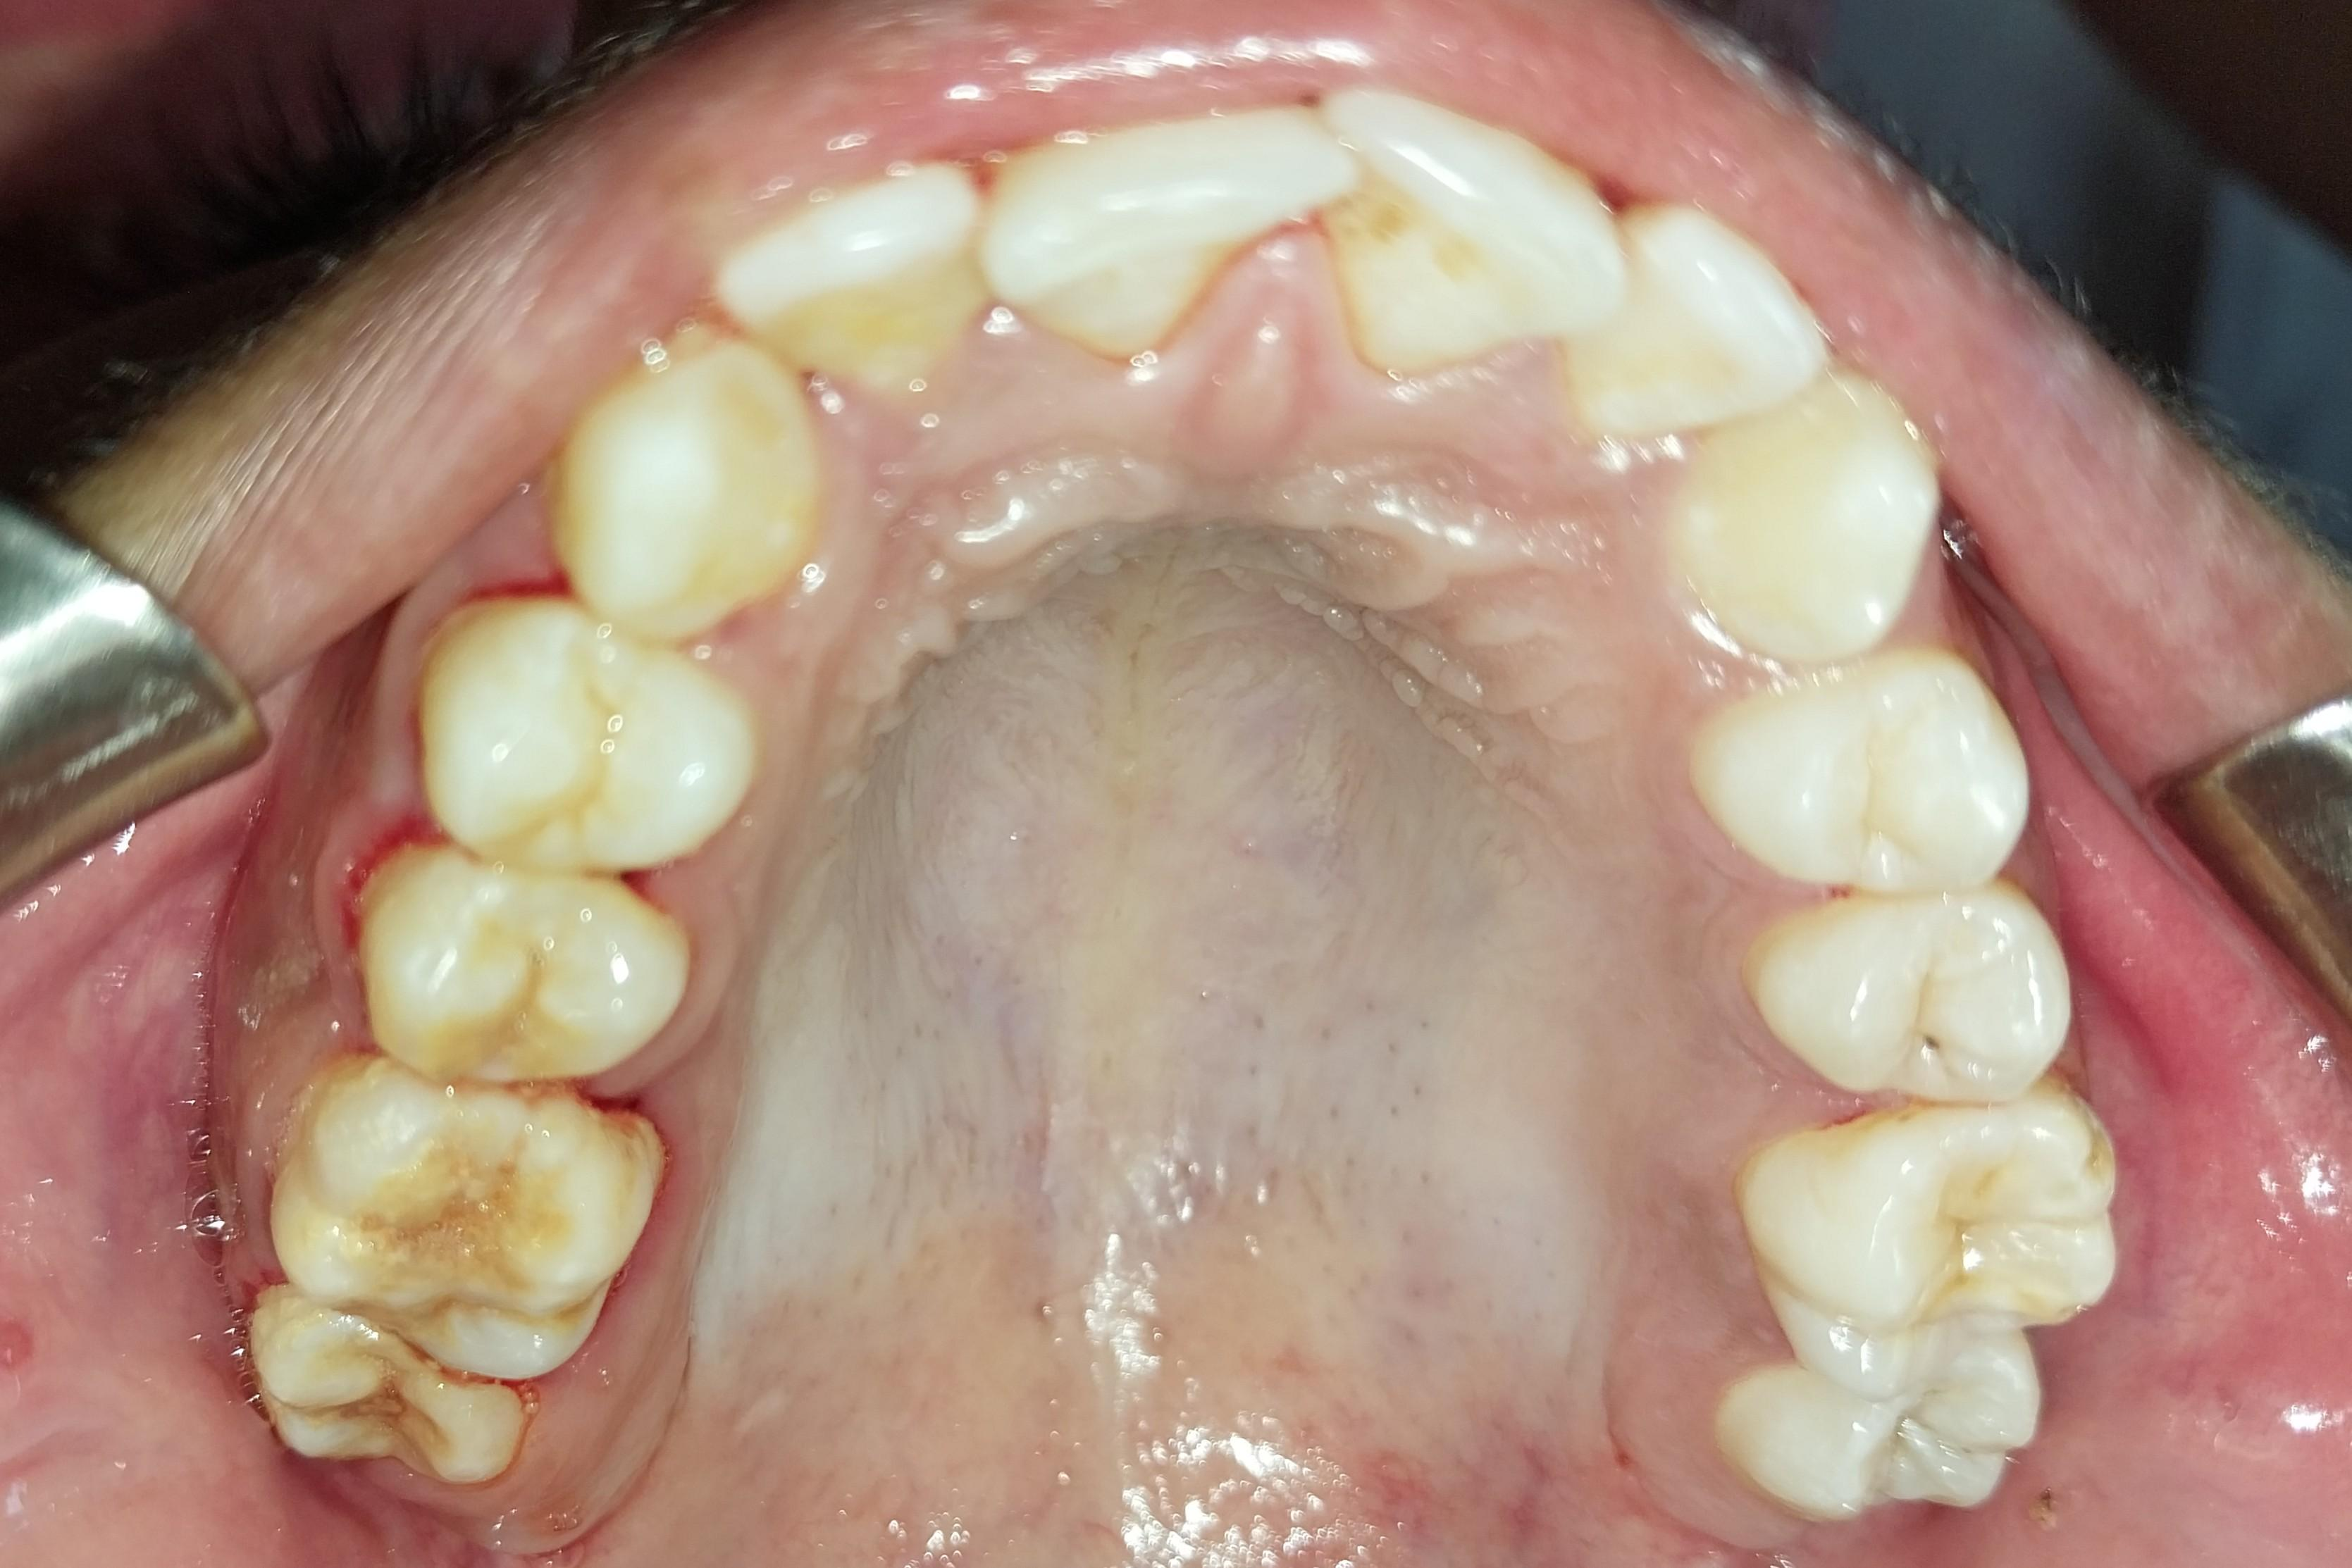D: (1750, 888, 2069, 1102)
